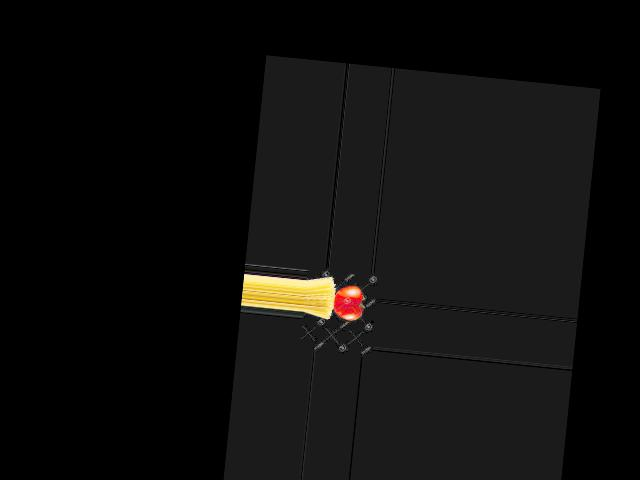tomato: (332, 284, 364, 320)
